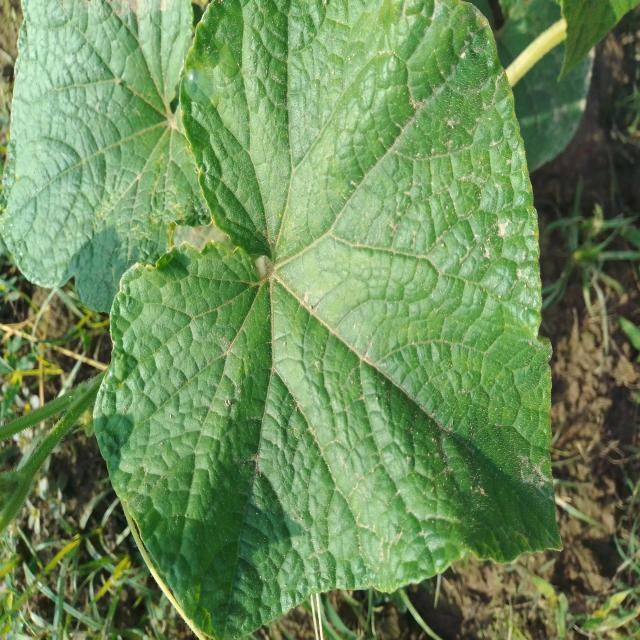cucumber_healthy: (95, 0, 570, 640), (0, 1, 210, 323)
